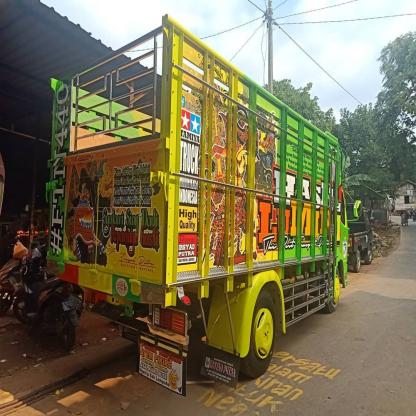truck: (51, 17, 363, 397)
